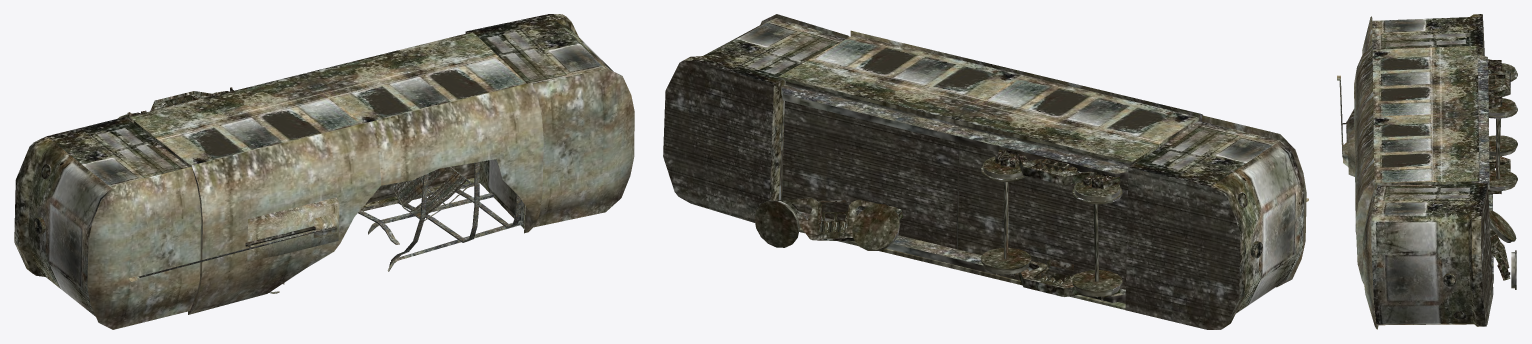
The model's file is prop_trollycar_d.glb.
The picture shows the model from 3 angles, left to right: view 1: azimuth 30°, elevation 25°; view 2: azimuth 150°, elevation 25°; view 3: azimuth 270°, elevation 25°; orthographic projection. The views are drawn at different scales.
Size of the model in its own units: 461 by 126 by 159.
Materials: 2 (2 with a texture image).
